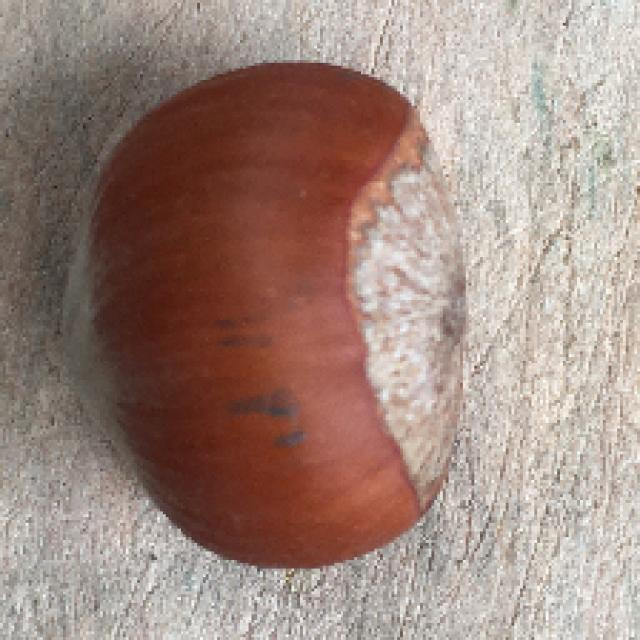qualityHazelnut: (46, 62, 475, 561)
